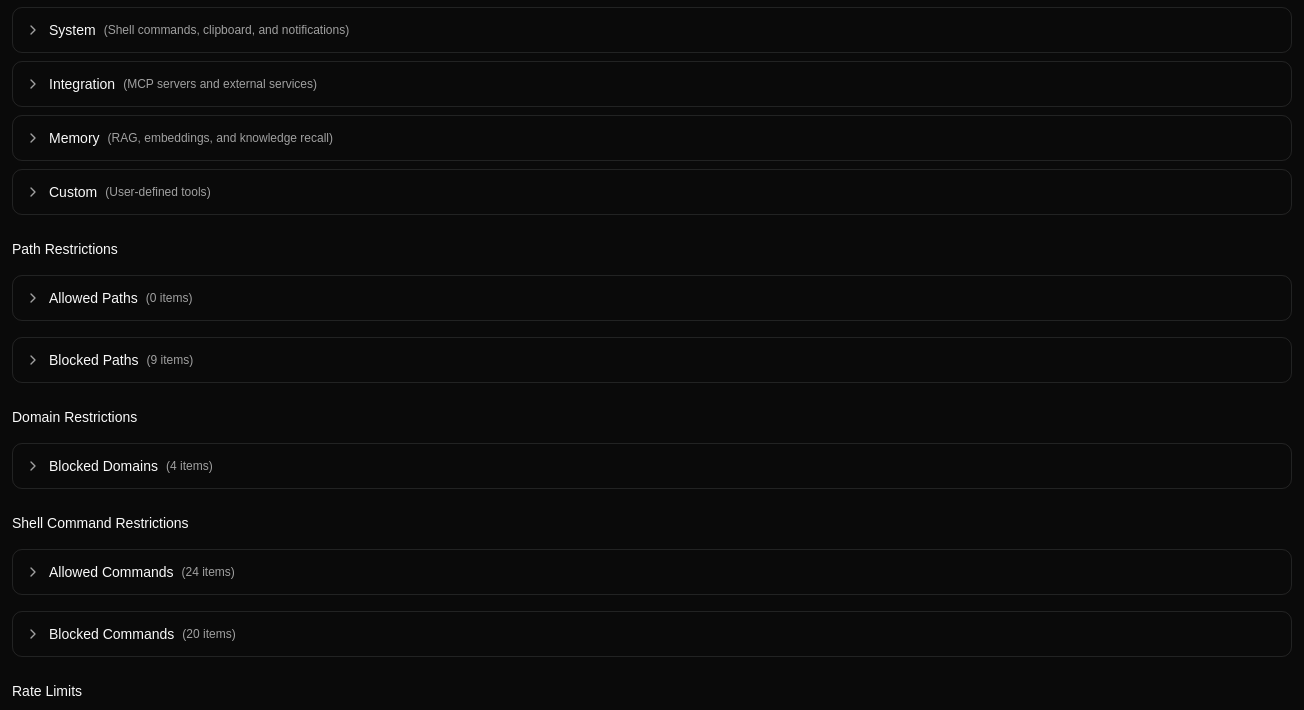
Scenario: GuardrailsSection › restrictions lists › shows existing items in Blocked Paths when expanded
(page scrolled)
Click the button "Blocked Paths (9 items)" at (94, 360), box [13, 338, 1291, 382]
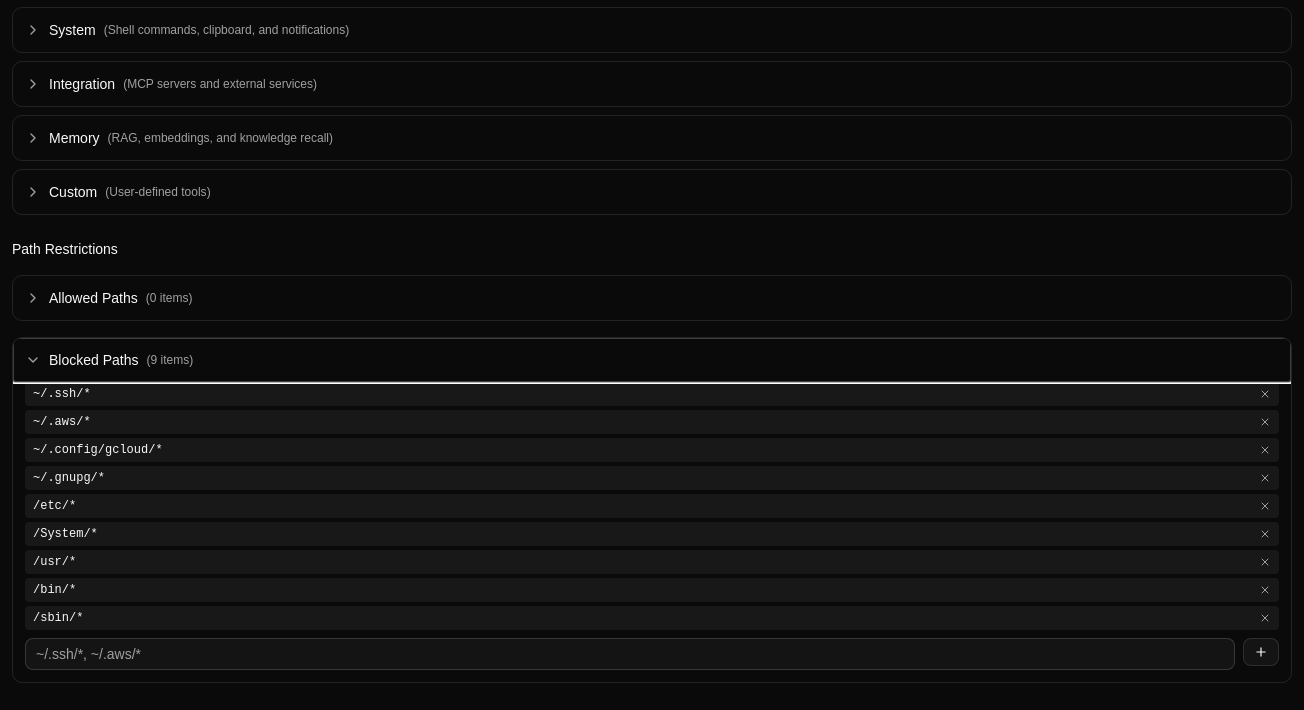
Check: the text "~/.ssh/*" is shown, box [33, 387, 91, 401]
Check: the text "~/.aws/*" is shown, box [33, 415, 91, 429]
